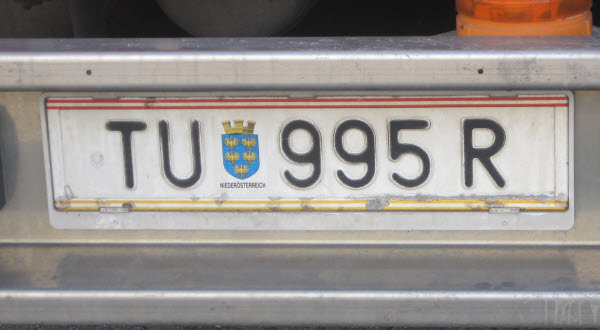license_plate: (45, 96, 570, 212)
